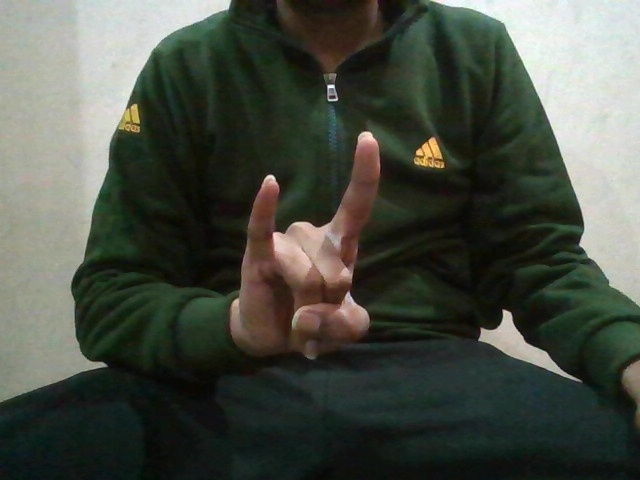U: (240, 129, 387, 361)
